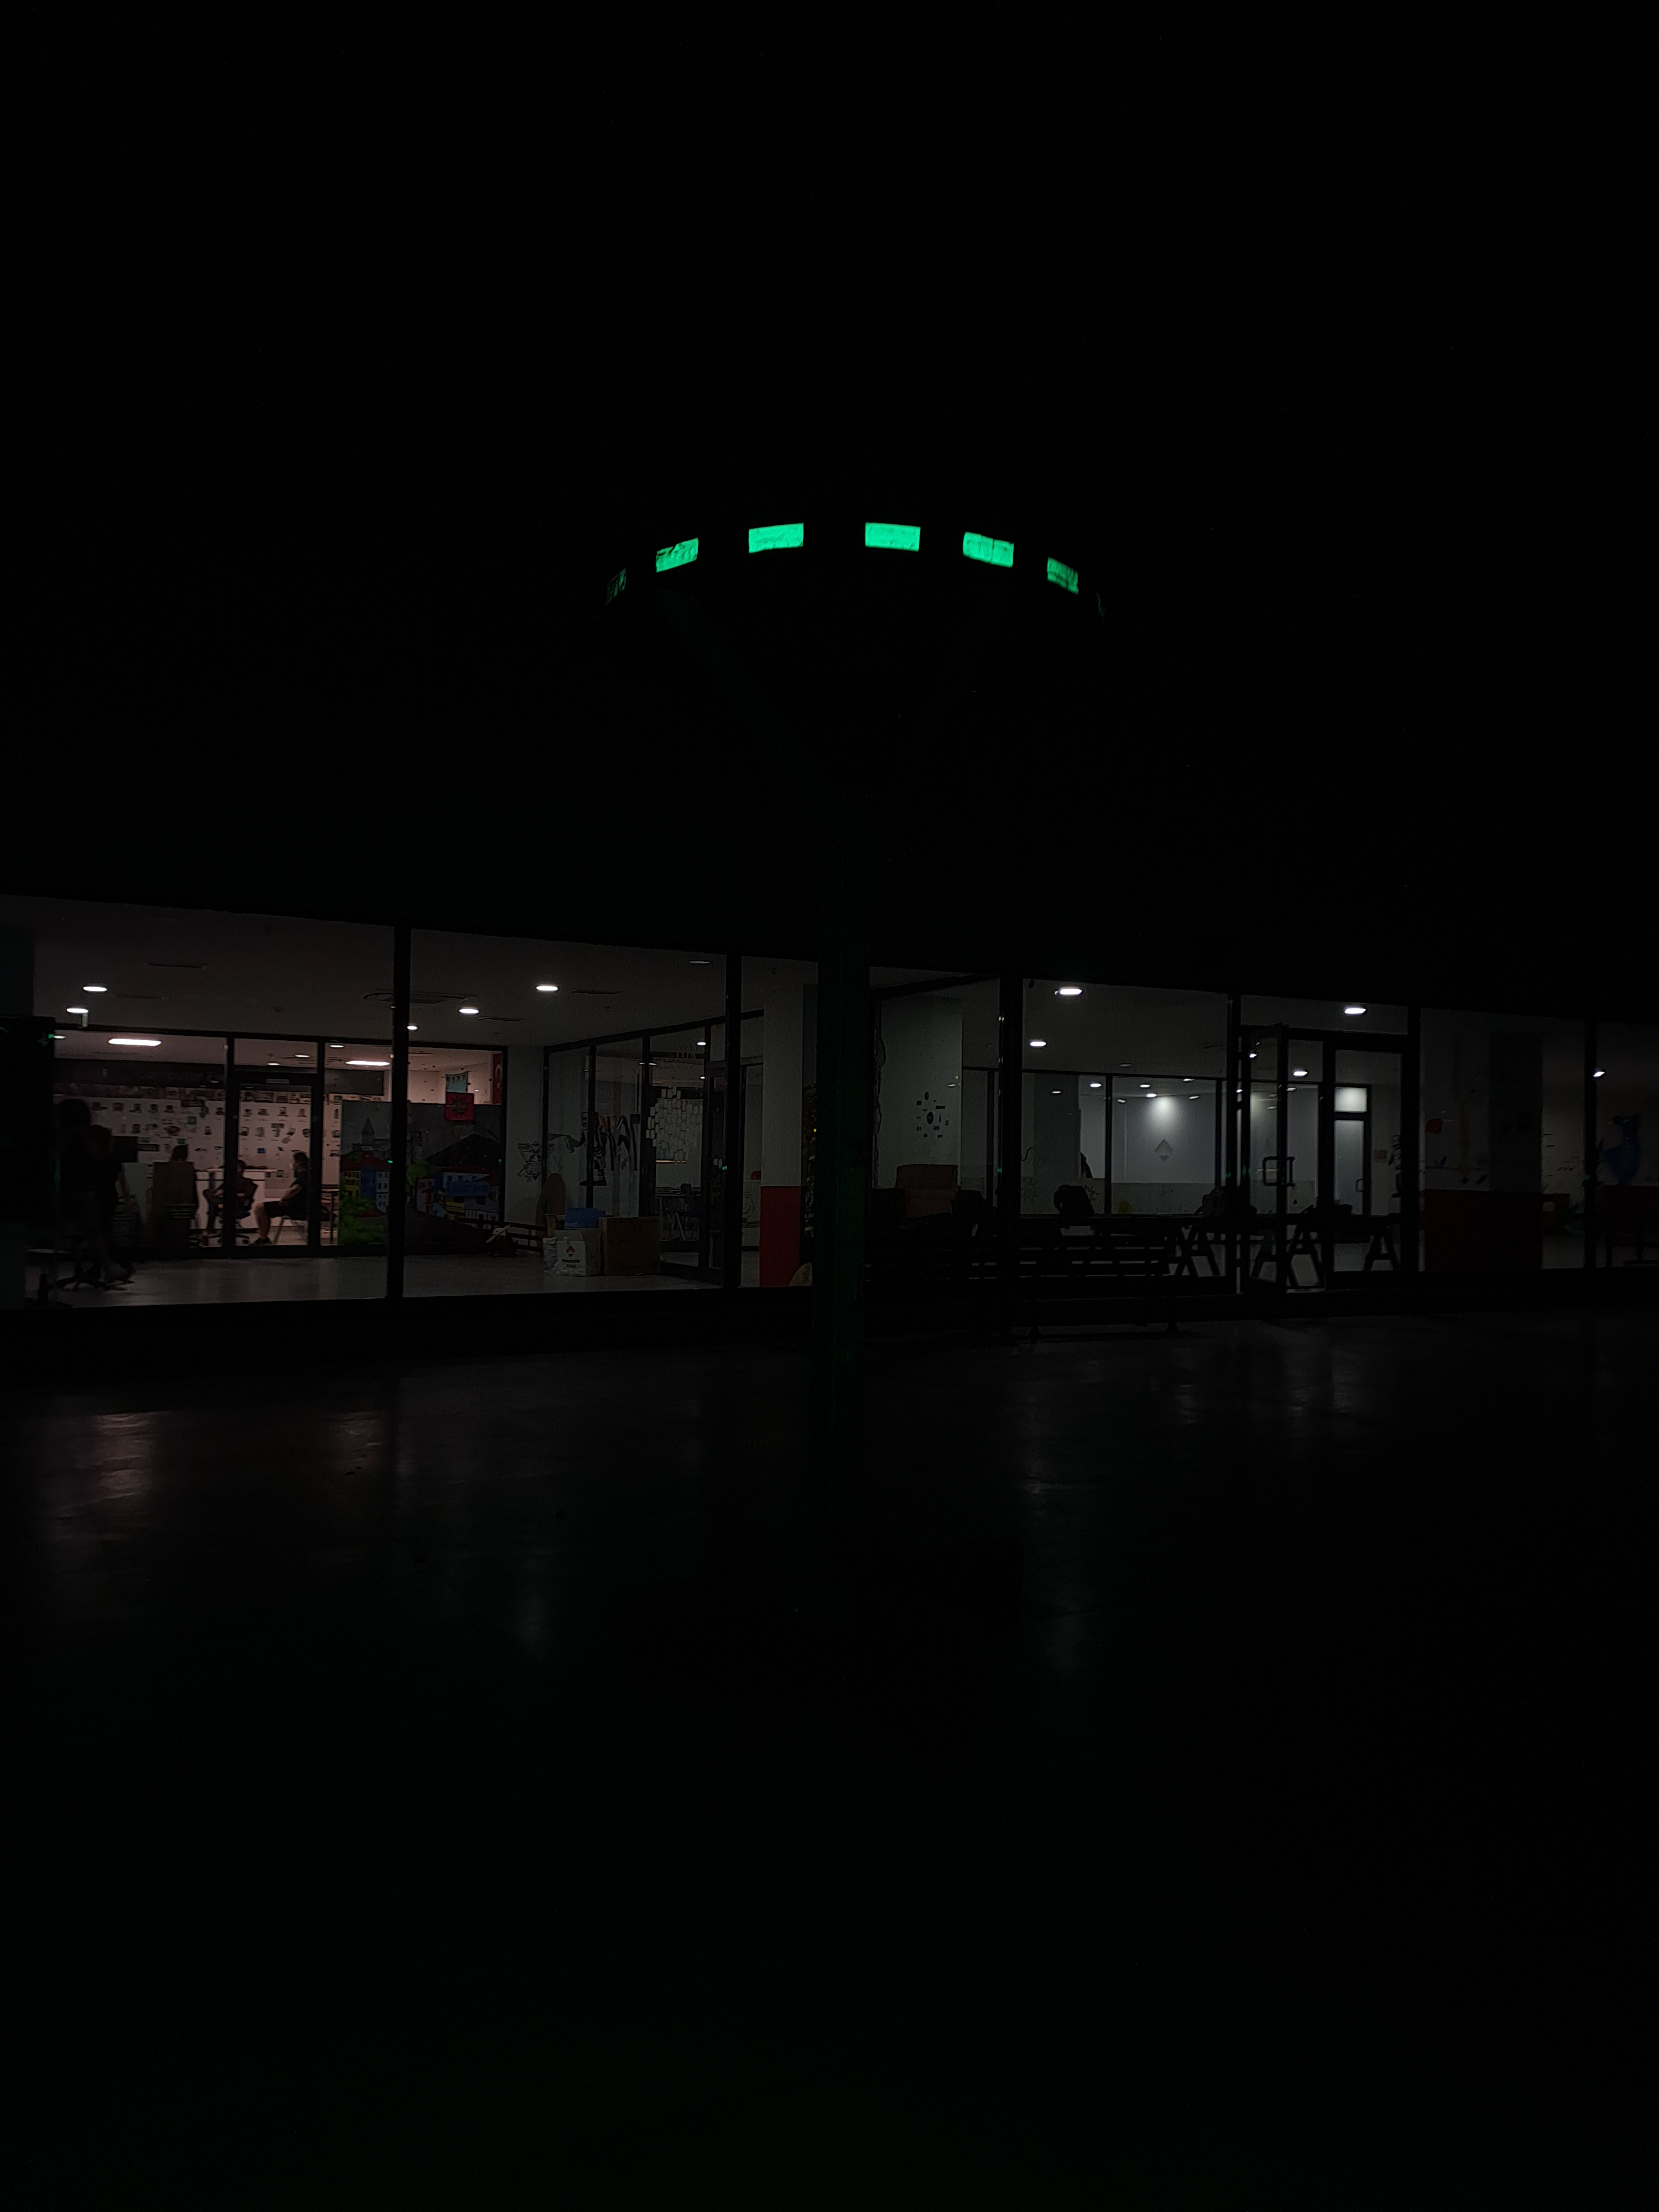hoop: (647, 507, 1086, 617)
